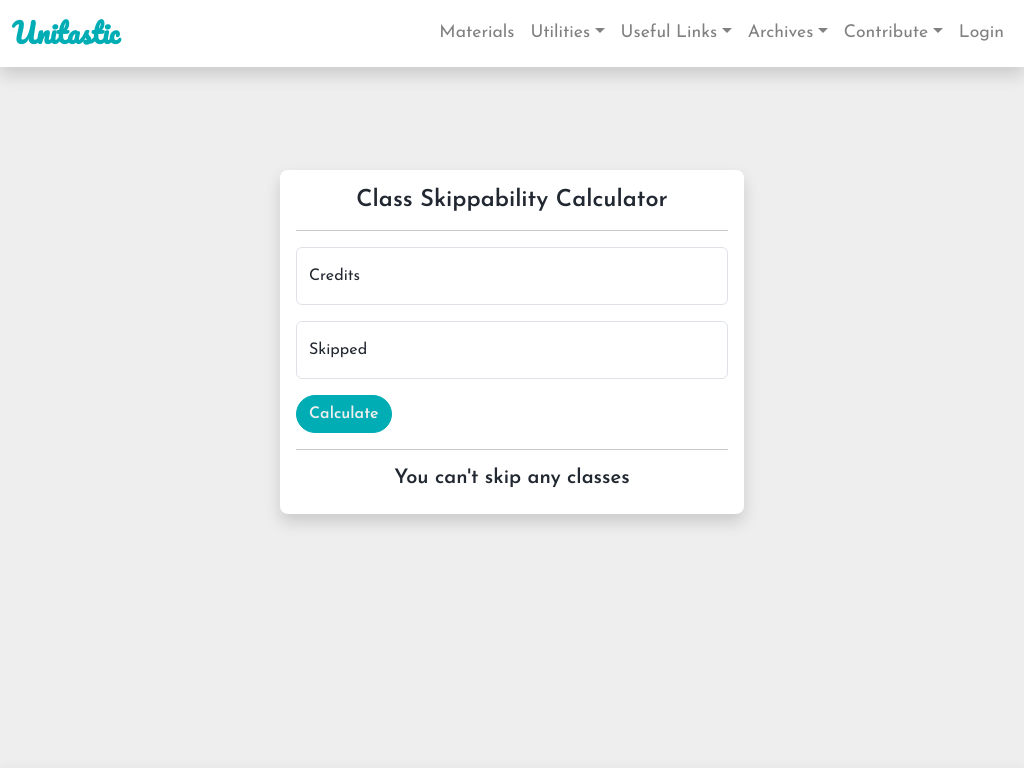
Test: AttendanceCalculator Component › calculates skippable classes correctly
Type "4" into the field labelled "Credits" at (512, 276), box [296,247,728,305]
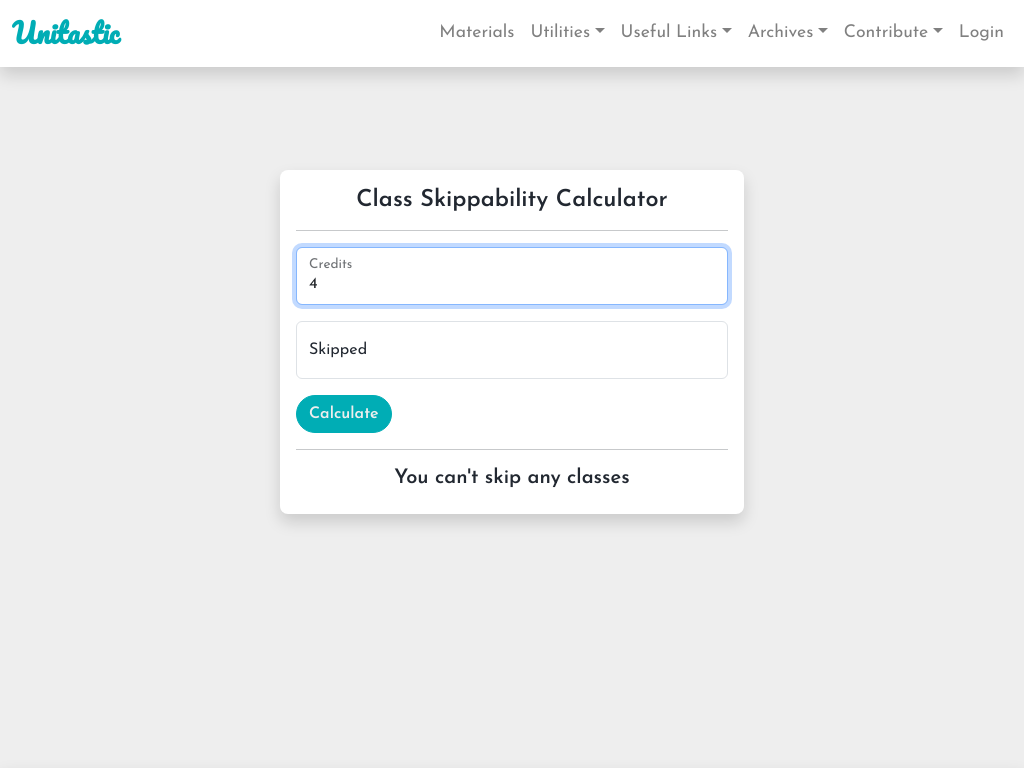
Type "2" into the field labelled "Skipped" at (512, 350), box [296,321,728,379]
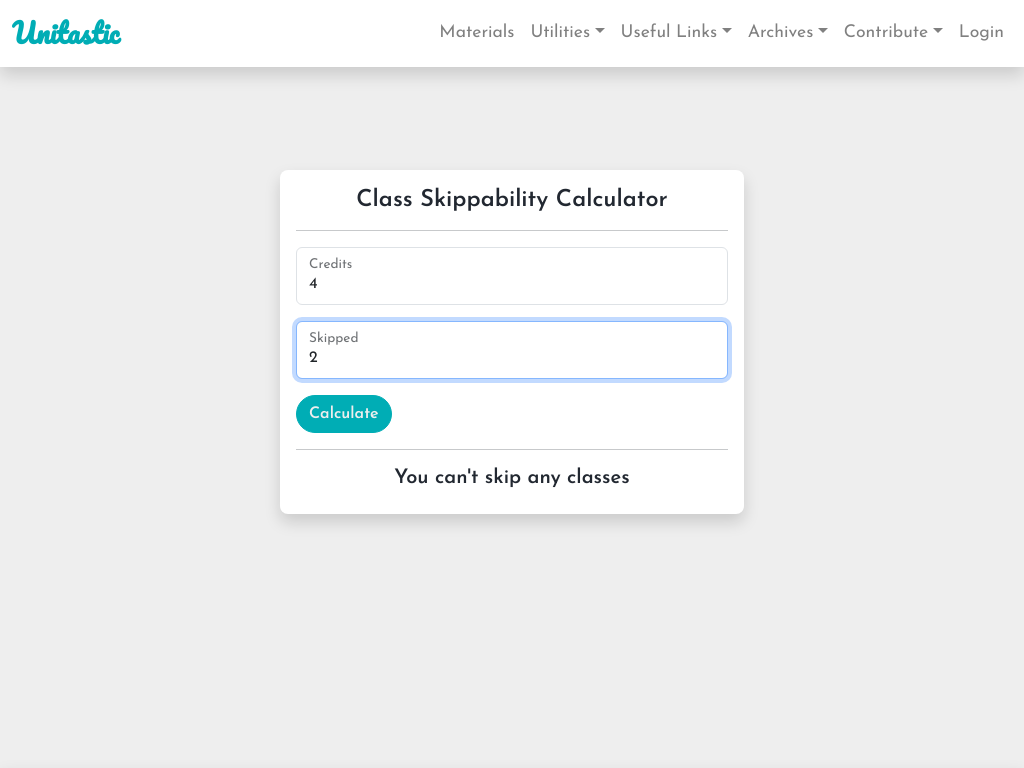
Click the button "Calculate" at (344, 414), box [296,395,392,433]
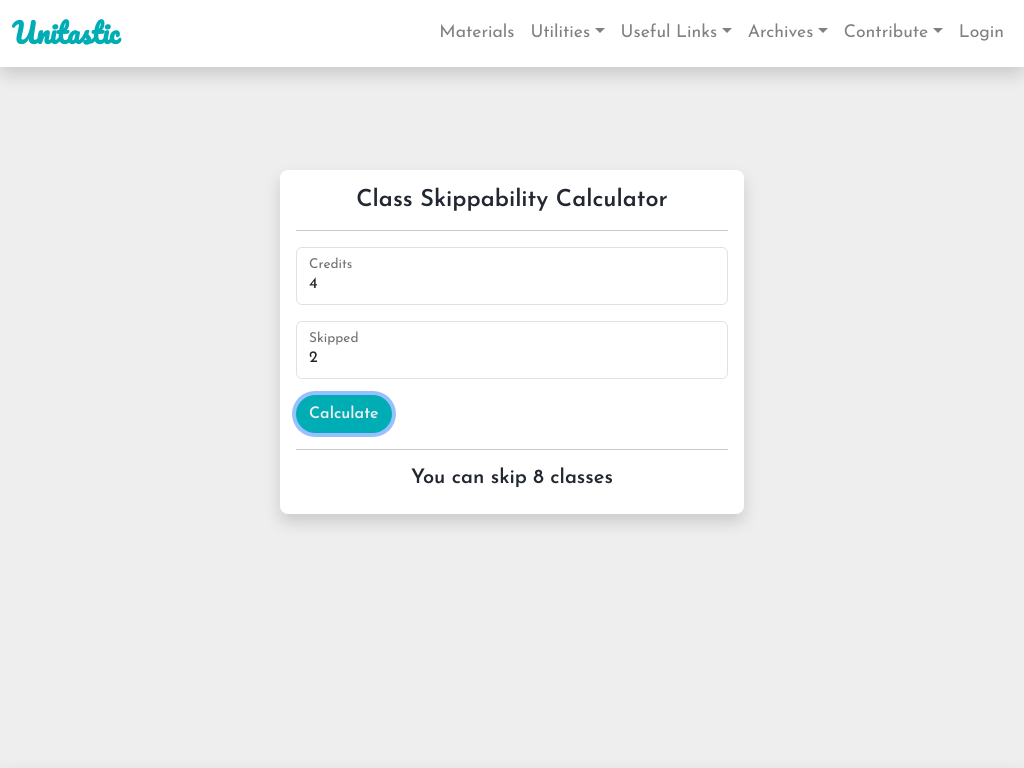
Expected: the heading "You can skip 8 classes" is shown, [411,468,613,488]
